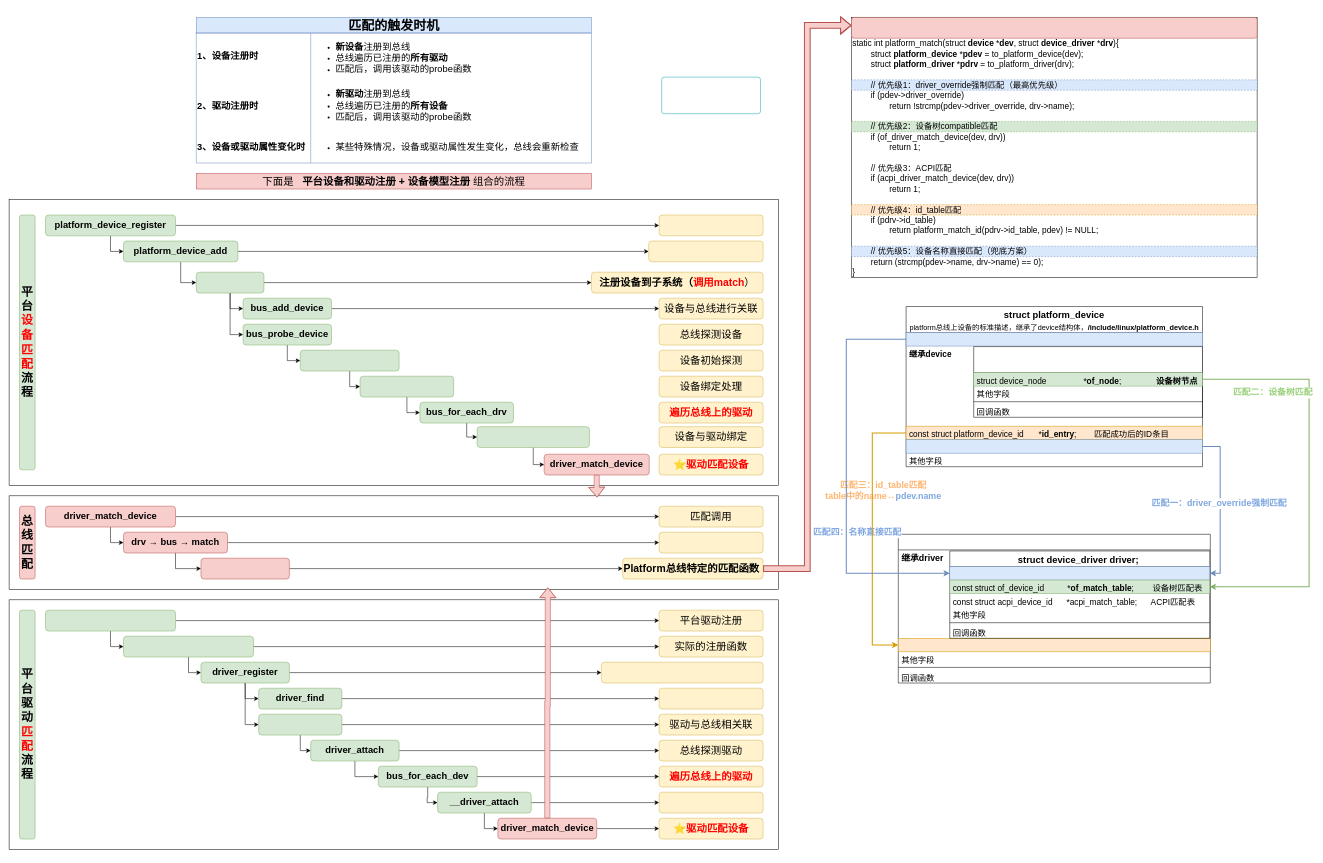
Some shapes in this 1323 by 863 pixel diagram are drawn without their labels. Each missing label, with the box of its shape:
__device_attach: (360, 376, 454, 397)
__device_attach_driver: (477, 426, 589, 447)
__platform_driver_register: (123, 636, 254, 657)
bus_add_driver: (258, 714, 342, 735)
char * driver_override ; 强制设备与指定驱动匹配的驱动名称: (906, 439, 1202, 453)
const char * name ; 设备名称，可用于匹配: (906, 332, 1202, 346)
const char * name ; 驱动名称: (949, 566, 1210, 580)
const struct platform_device_id * id_table ; 支持的设备列表: (898, 638, 1210, 652)
device_add: (196, 272, 264, 293)
device_initial_probe: (300, 350, 399, 371)
platform_driver_register: (45, 610, 176, 631)
platform_match: (200, 558, 289, 579)
platform_match代码: (851, 17, 1257, 38)
struct device 设备模型中对硬件设备的抽象表示， /include/linux/device.h: (973, 346, 1202, 417)
struct platform_driver: (898, 534, 1210, 683)
平台设备注册: (659, 214, 763, 236)
核心：添加设备到系统: (648, 240, 763, 262)
检查驱动是否被注册: (659, 688, 763, 709)
注册驱动到子系统 （ 调用match ）: (601, 662, 763, 683)
获取实际的匹配函数: (659, 532, 763, 553)
驱动与设备绑定: (659, 792, 763, 813)
🌻Make By Dakkk: (661, 77, 760, 114)
